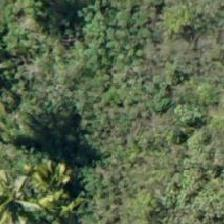coconut_tree: (0, 157, 65, 223)
